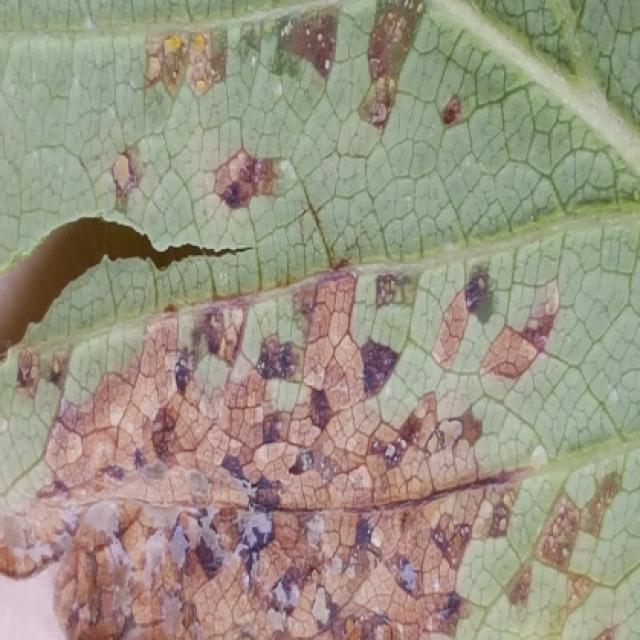Angular Leafspot: (0, 0, 638, 638)
